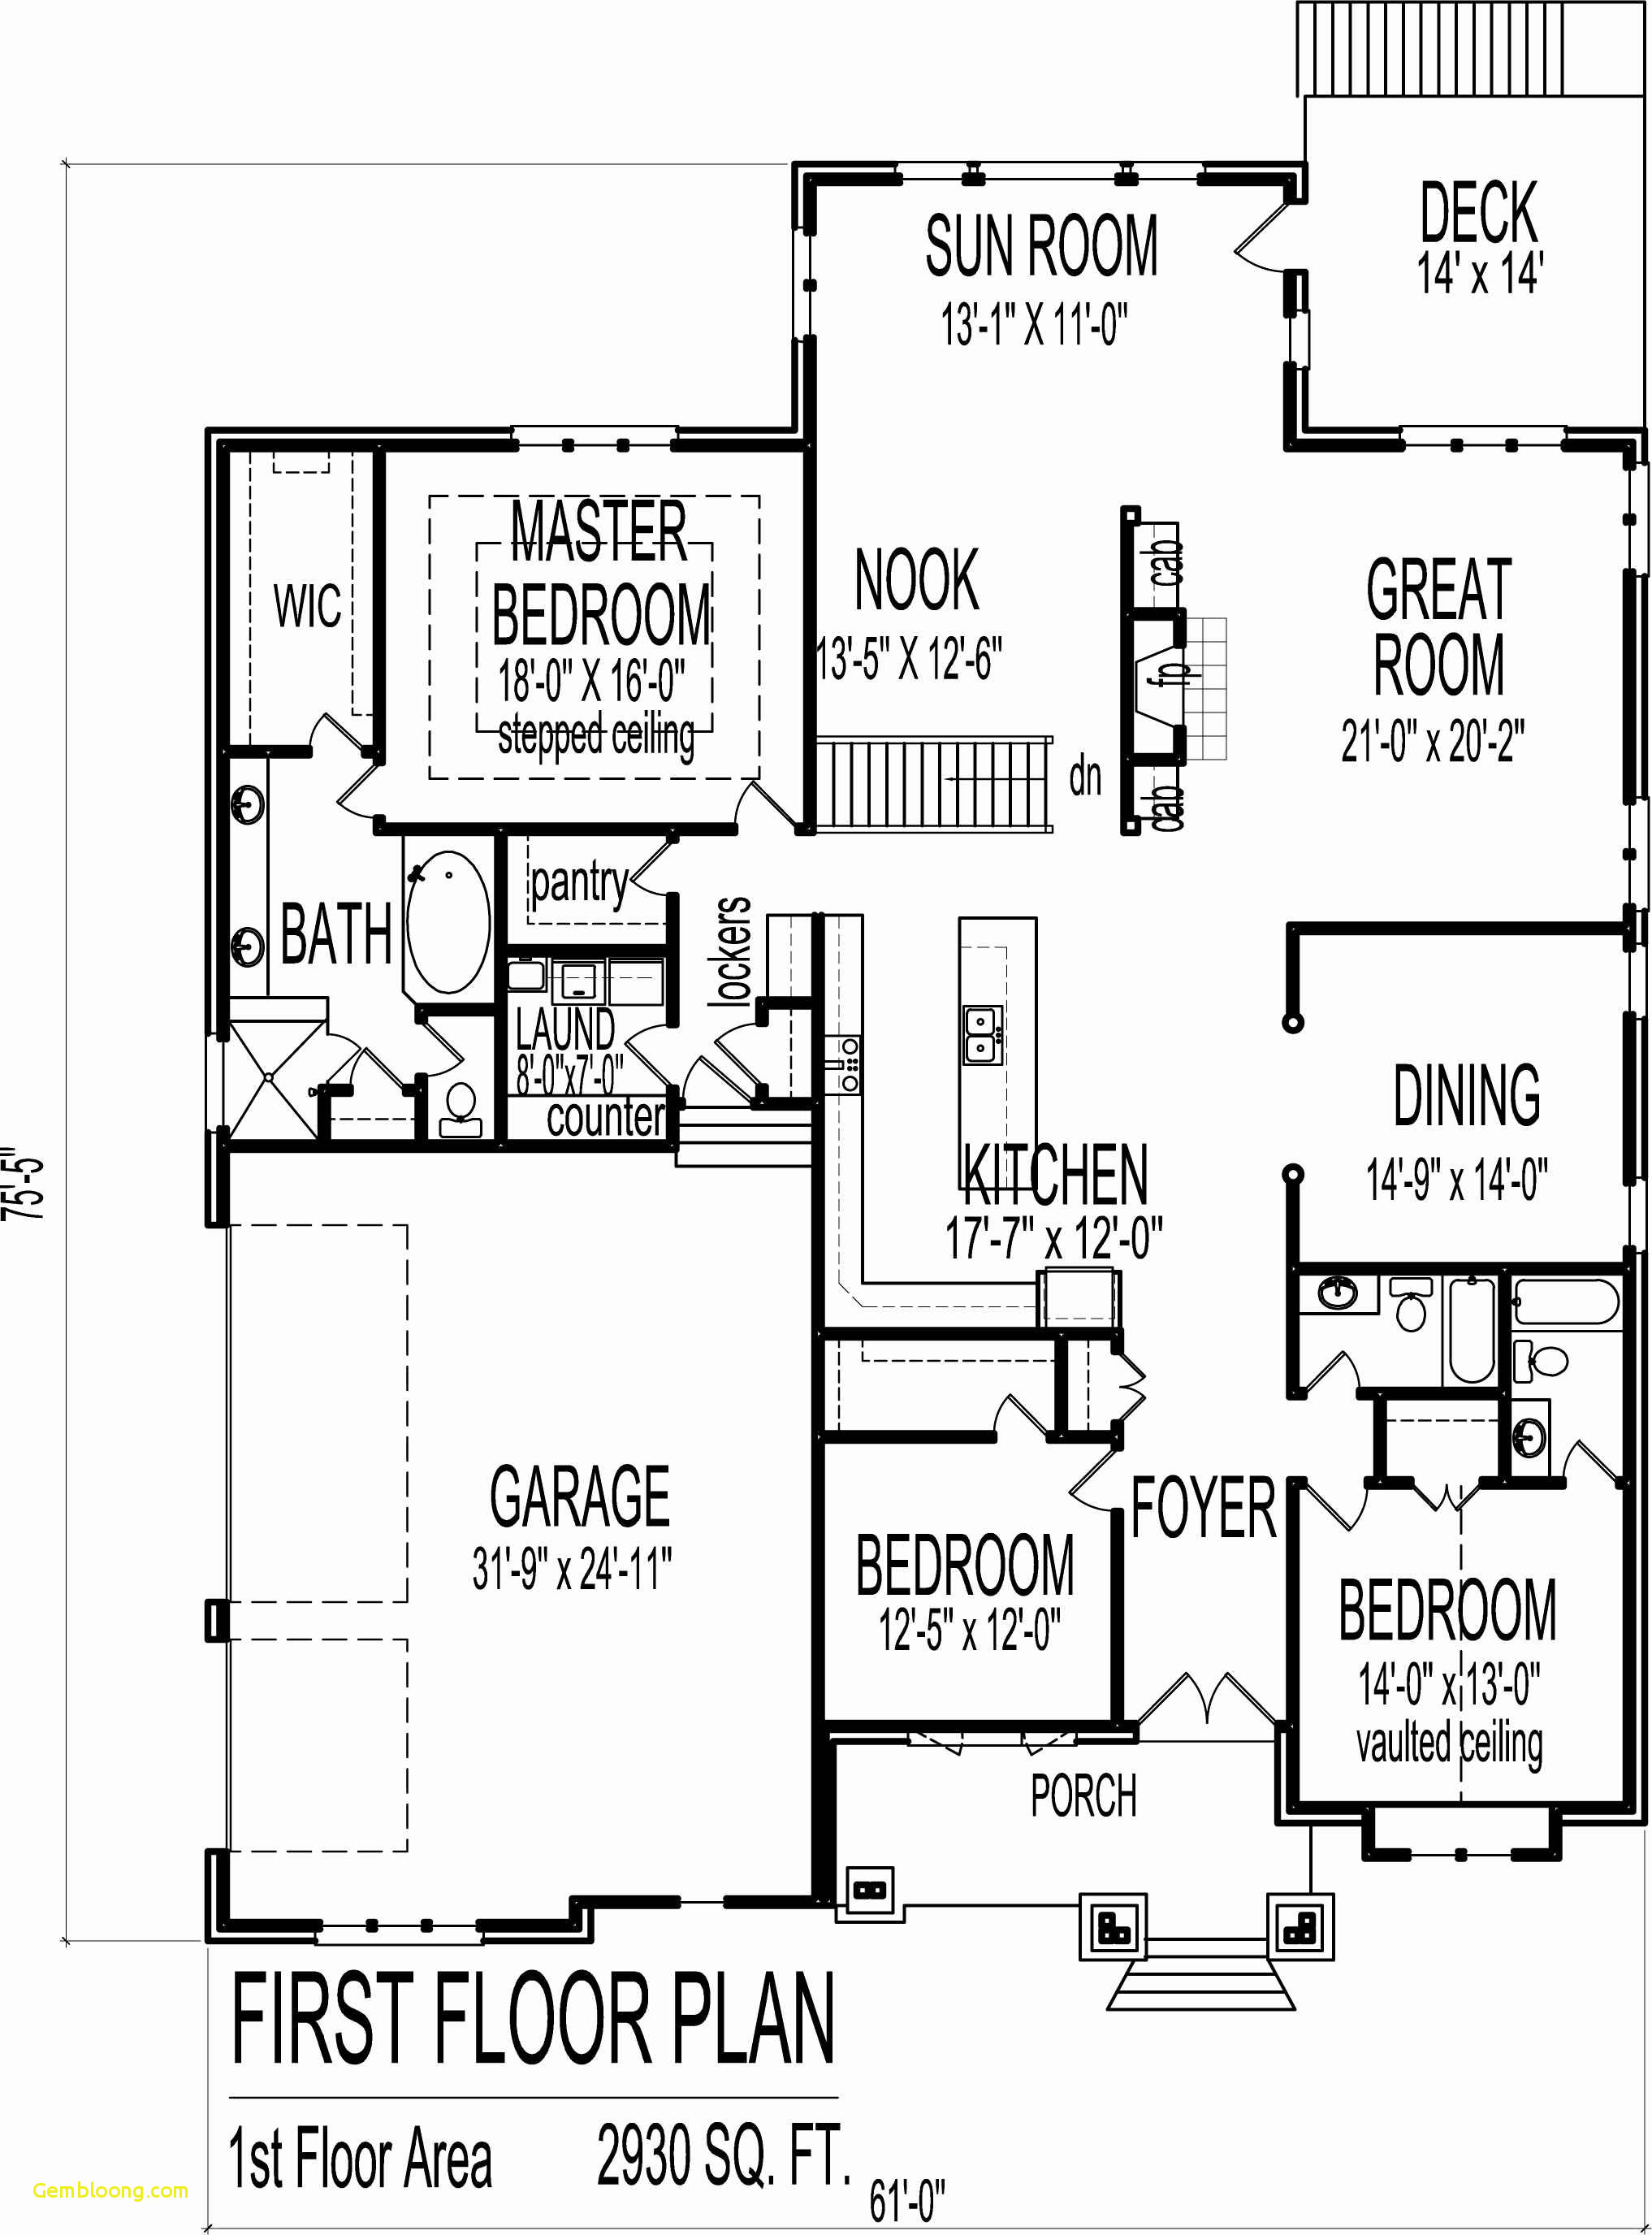door: (1149, 1628, 1270, 1727), (1213, 189, 1274, 290), (1305, 1482, 1374, 1544), (1057, 1451, 1114, 1520), (316, 765, 380, 824), (613, 840, 677, 899), (1553, 1426, 1621, 1480), (621, 1017, 666, 1083), (1308, 1345, 1367, 1393), (989, 1386, 1038, 1440), (732, 781, 791, 824)
room: (193, 1126, 845, 1961), (215, 423, 840, 1154), (1263, 1239, 1652, 1832)
